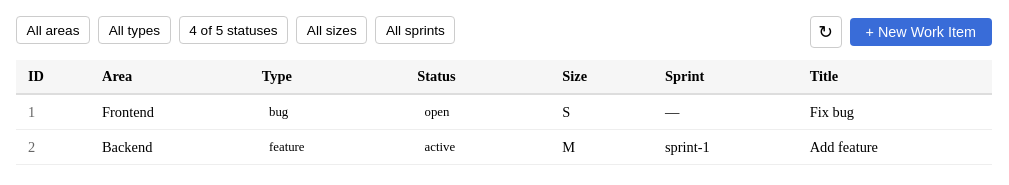
Test case: WorkItemList › deselecting a sprint hides its items
Check: the text "Fix bug" is shown, box [798,94,992,130]
Step 1. Click the button "All sprints" → x=415, y=30, box [375,16,455,44]
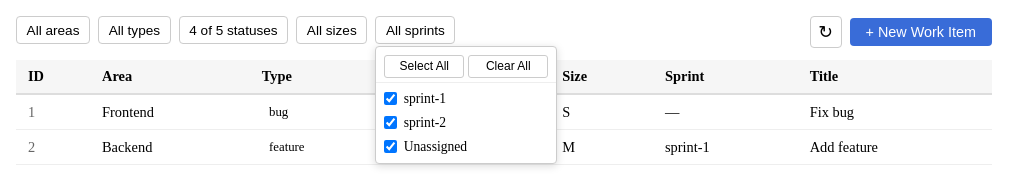
Step 2. Click the checkbox labelled "Unassigned" → x=391, y=147, box [384,140,397,153]
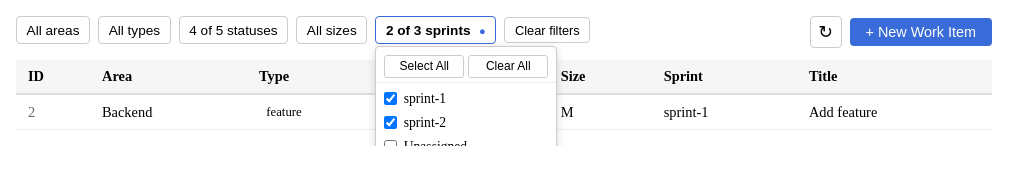
Check: the button "Fix bug" is gone
